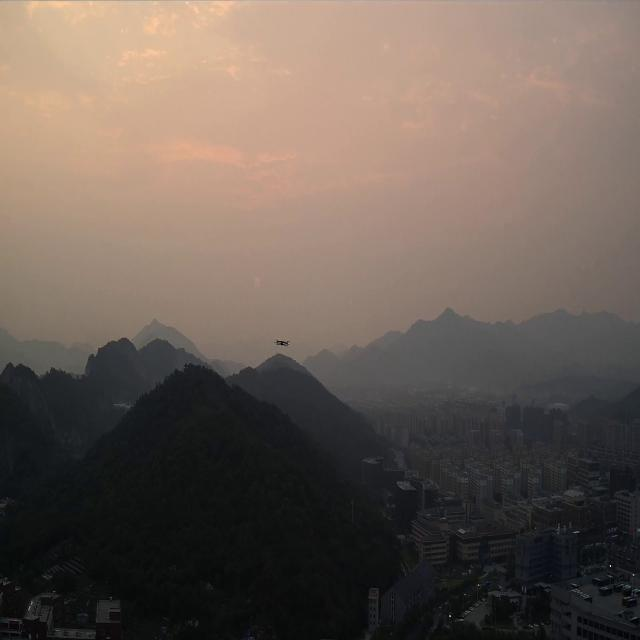drone: (273, 339, 291, 347)
